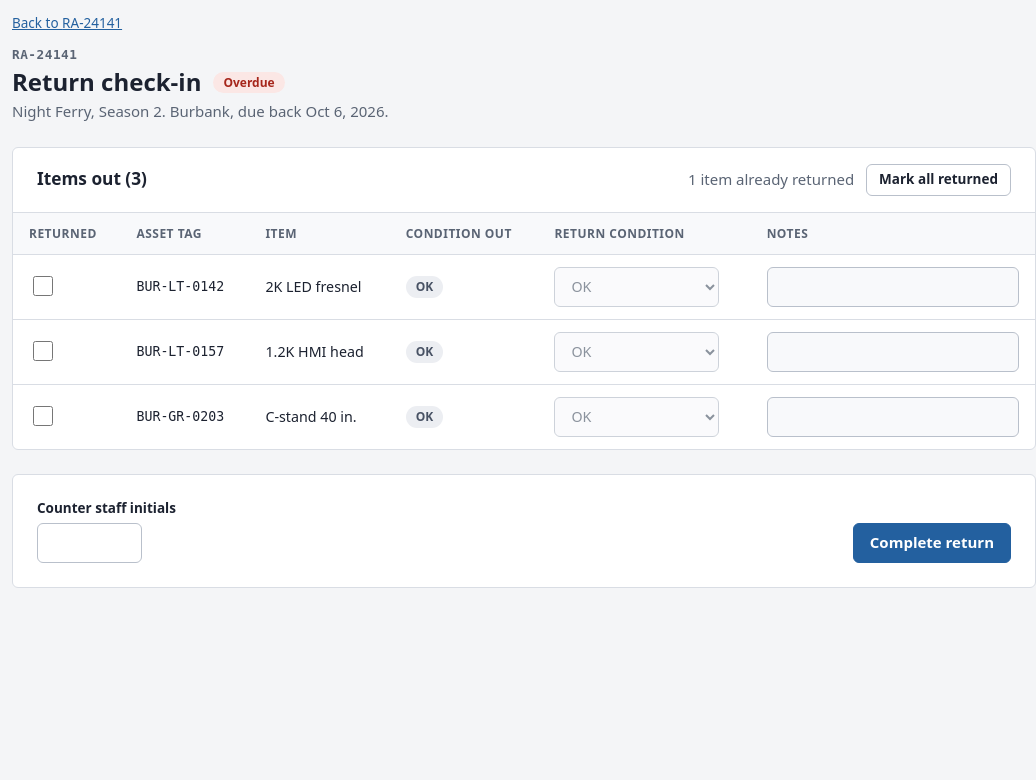
ReturnCheckIn › needs at least one returned item and staff initials
The image size is (1036, 780).
Click the button "Complete return".
click(932, 542)  # box [853, 522, 1011, 562]
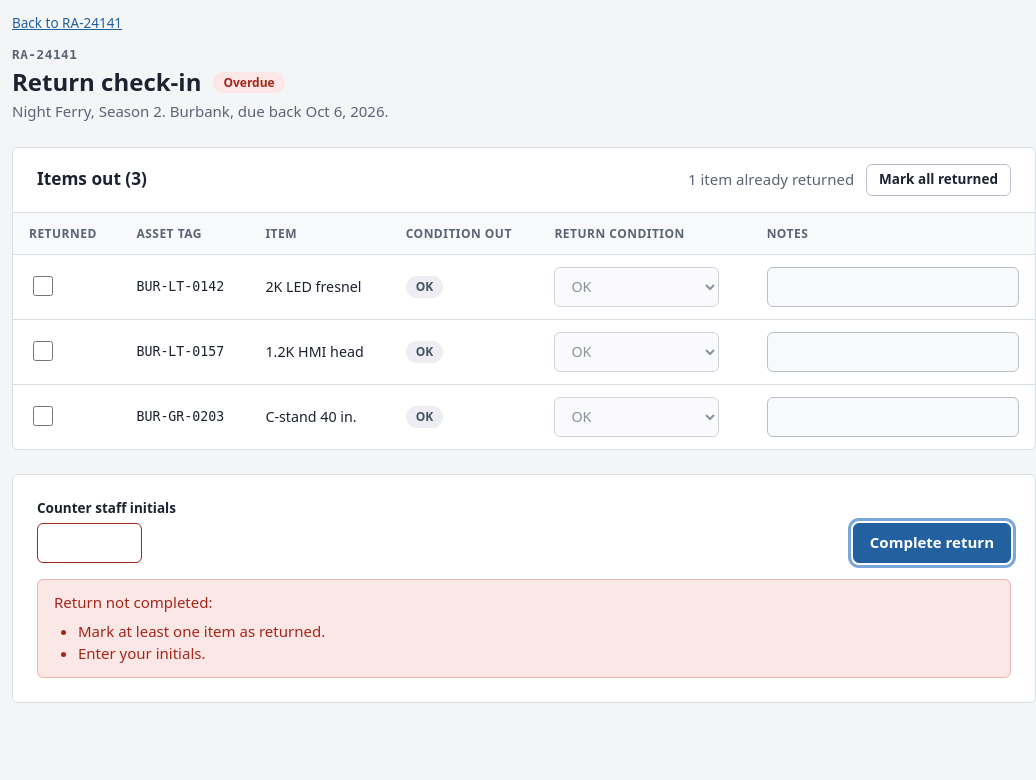
Now the message shows "Mark at least one item as returned.", box [78, 621, 325, 641]
Now the message shows "Enter your initials.", box [78, 643, 206, 663]
